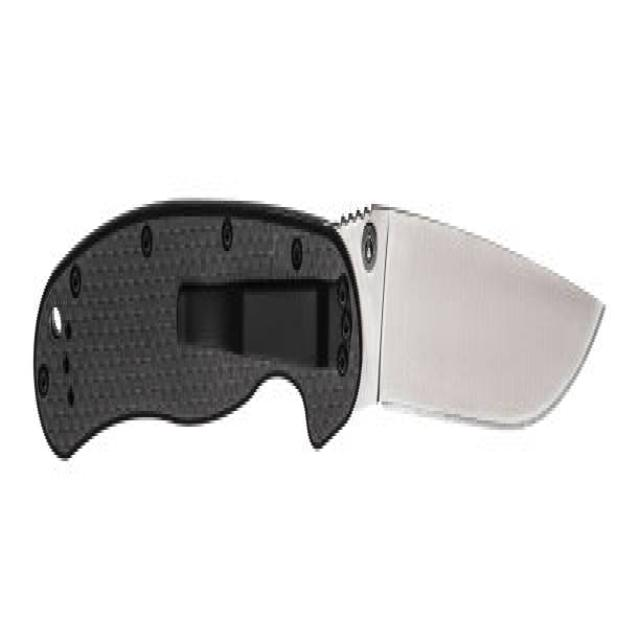knife: (30, 172, 610, 496)
